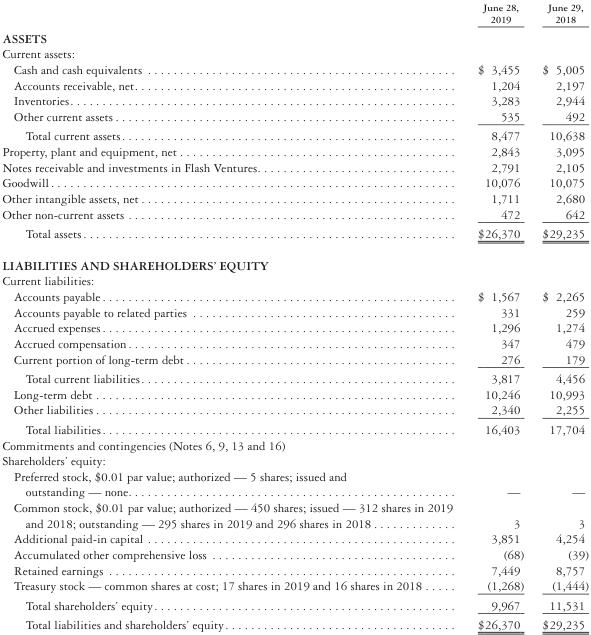table: (1, 0, 587, 631)
table column: (1, 0, 465, 631), (465, 0, 532, 631), (532, 0, 587, 631)
table column header: (1, 0, 587, 27)
table projected row header: (1, 249, 587, 272), (1, 27, 587, 45), (1, 45, 587, 61), (1, 272, 587, 288), (1, 436, 587, 452), (1, 452, 587, 468)
table row: (1, 468, 587, 499), (1, 499, 587, 530), (1, 0, 587, 27), (1, 223, 587, 249), (1, 249, 587, 272), (1, 595, 587, 614), (1, 27, 587, 45), (1, 125, 587, 143), (1, 350, 587, 368), (1, 368, 587, 386), (1, 401, 587, 419), (1, 577, 587, 595), (1, 108, 587, 125), (1, 206, 587, 223), (1, 419, 587, 436), (1, 614, 587, 631), (1, 45, 587, 61), (1, 76, 587, 92), (1, 92, 587, 108), (1, 143, 587, 159), (1, 174, 587, 190), (1, 190, 587, 206), (1, 272, 587, 288), (1, 303, 587, 319), (1, 319, 587, 335), (1, 436, 587, 452), (1, 452, 587, 468), (1, 530, 587, 546), (1, 561, 587, 577), (1, 61, 587, 76), (1, 159, 587, 174), (1, 288, 587, 303), (1, 335, 587, 350), (1, 386, 587, 401), (1, 546, 587, 561)
